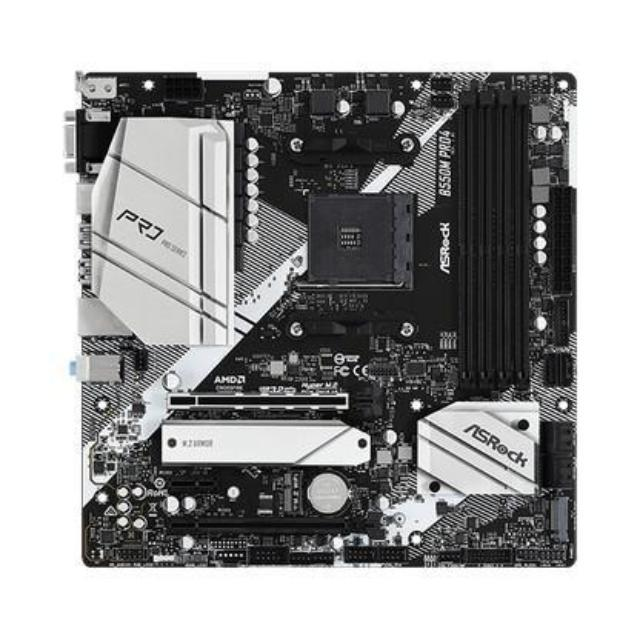Mainboard: (67, 66, 585, 572)
